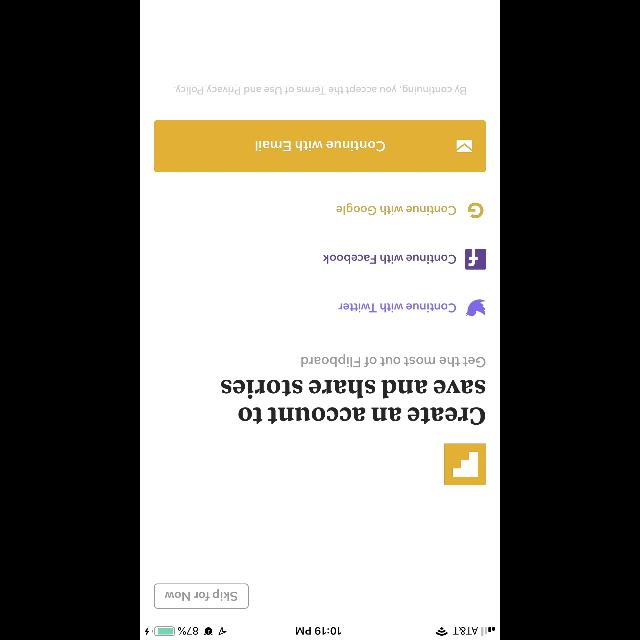icon: (464, 248, 486, 270), (465, 300, 485, 316), (468, 202, 484, 218)
image: (444, 443, 486, 485)
text: (221, 380, 485, 424), (174, 85, 466, 95), (301, 353, 485, 367), (336, 203, 456, 215), (322, 254, 456, 264), (338, 304, 456, 312)
textbutton: (154, 120, 486, 172), (154, 584, 248, 608)
uppertaskbar: (140, 626, 500, 640)
